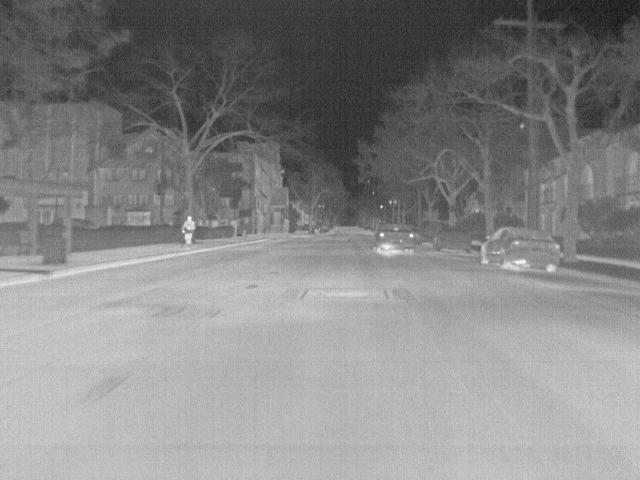car: (480, 226, 563, 274), (372, 224, 416, 255), (433, 225, 471, 253), (418, 218, 440, 244)
person: (181, 214, 196, 246)
